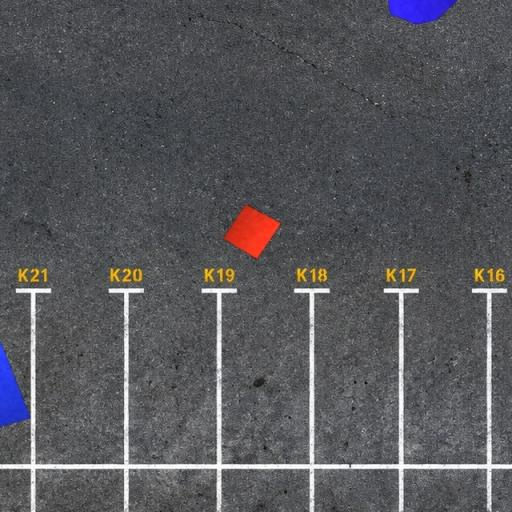RED_SQUARE: (222, 204, 282, 260)
